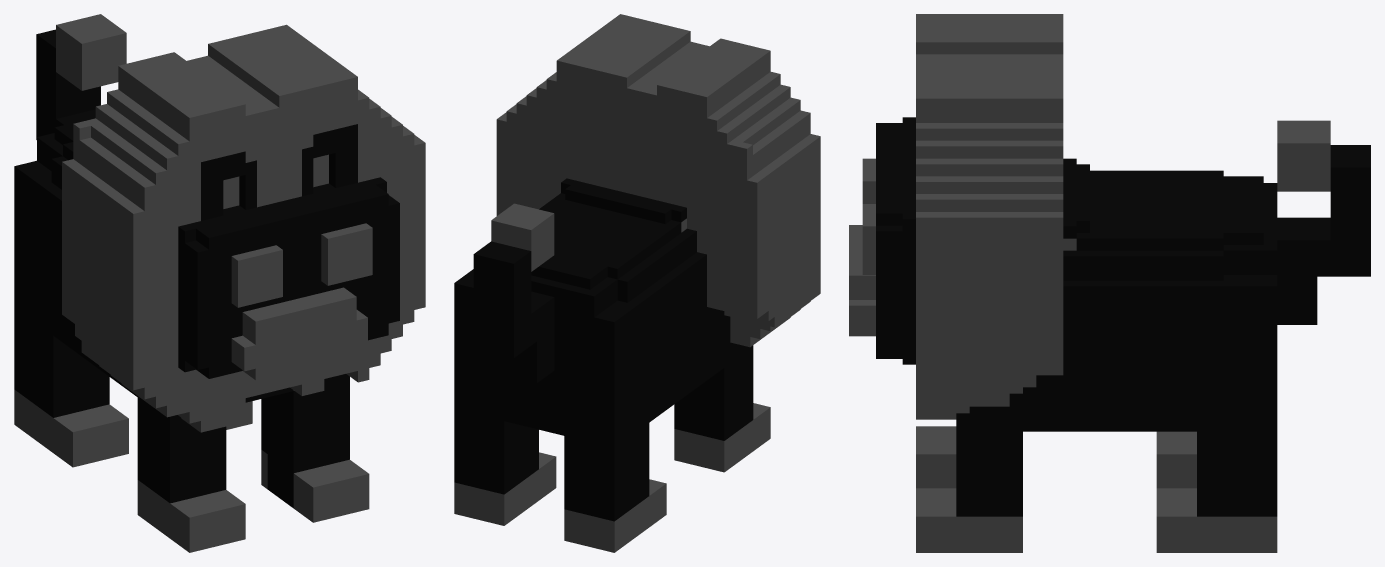
File: Leon.obj
The picture shows the model from 3 angles, left to right: view 1: azimuth 30°, elevation 25°; view 2: azimuth 150°, elevation 25°; view 3: azimuth 270°, elevation 25°; orthographic projection. The views are drawn at different scales.
Size of the model in its own units: 2.6 by 3.7 by 3.9.
